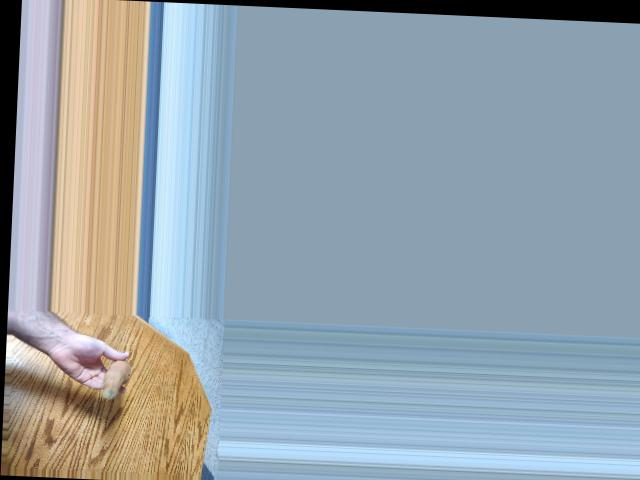sweet_potato: (98, 356, 126, 400)
